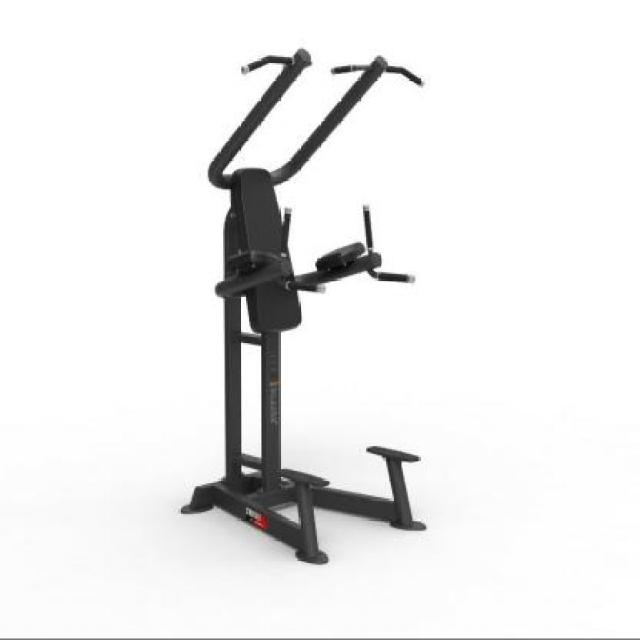chinning dipping: (183, 46, 431, 563)
